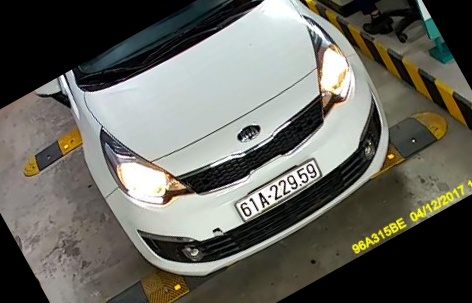plate: (235, 159, 326, 222)
